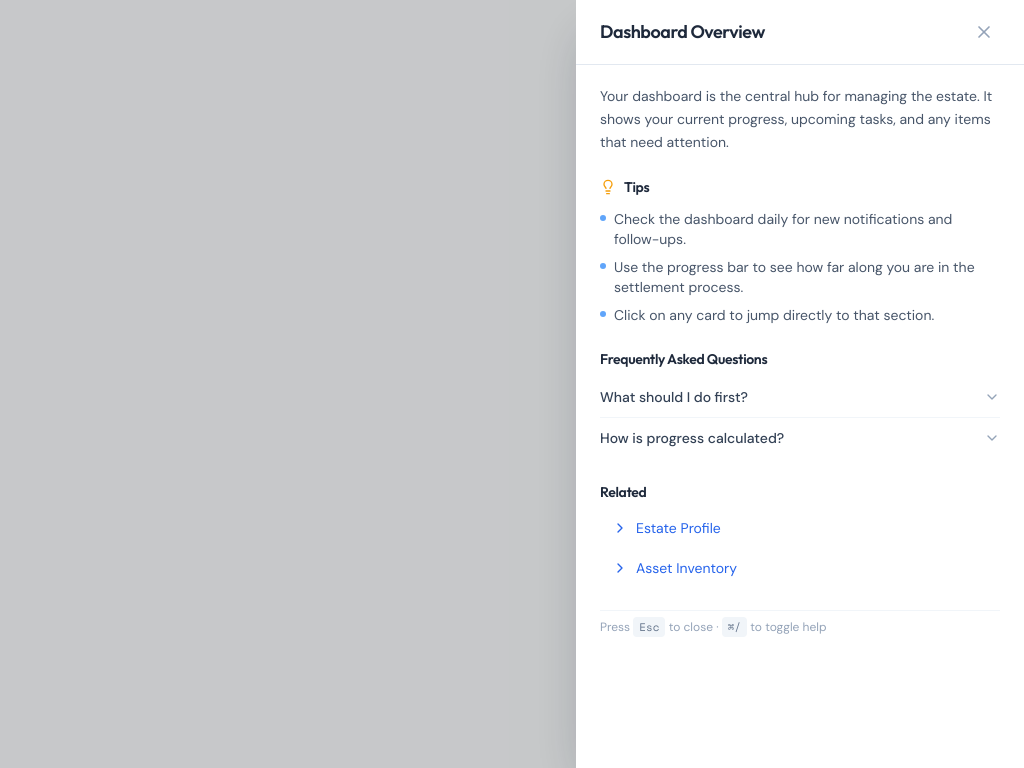
it: HelpPanel › expands FAQ answer on click
Click the button "What should I do first?".
click(674, 397)  # box x1=600 y1=377 x2=1000 y2=417
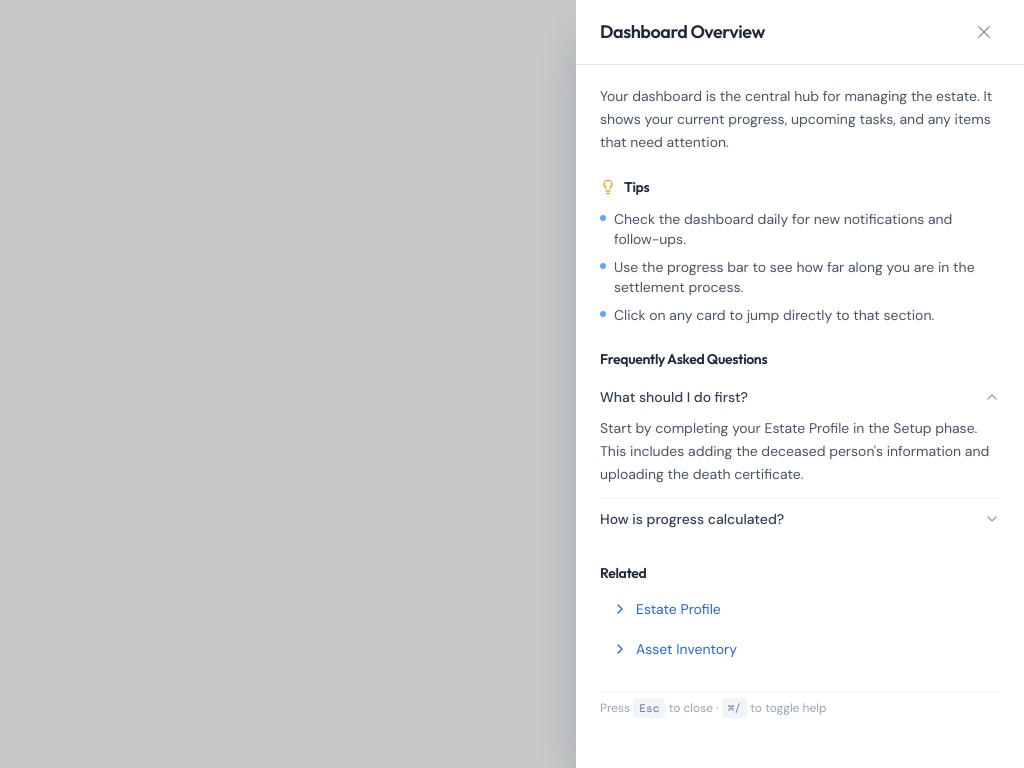
Check: the text "Start by completing your Estate Profile" is shown, box x1=600 y1=419 x2=989 y2=483
